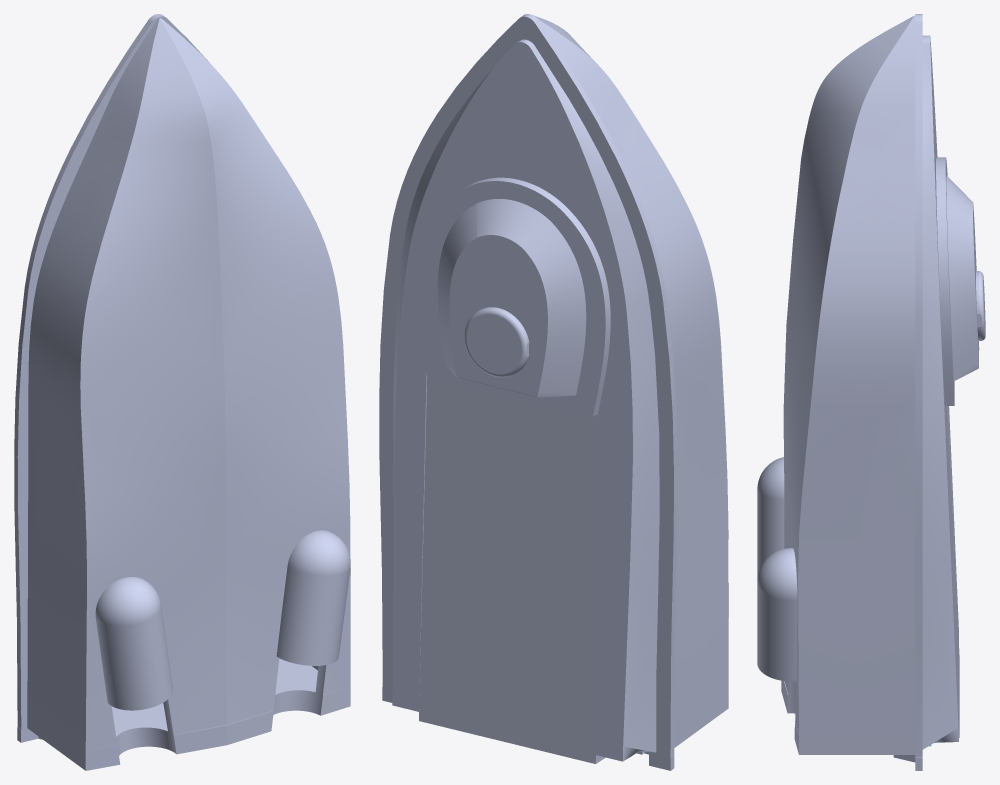
Rendered from Boat.FBX.
3 views of the same model, side by side, from view 1: azimuth 30°, elevation 25°; view 2: azimuth 150°, elevation 25°; view 3: azimuth 270°, elevation 25° (orthographic). The views are drawn at different scales.
Parts seen in each view (by area): view 1: 凸台-拉伸8, 镜向10, 旋转2, 镜向5; view 2: 镜向10, 凸台-拉伸3, 凸台-拉伸8, 切除-拉伸28, 切除-拉伸1; view 3: 凸台-拉伸8, 镜向10, 切除-拉伸28, 镜向5, 凸台-拉伸3, 旋转2, 切除-拉伸1.
Part boxes in pixels (<box>): 凸台-拉伸8: <box>27,18,350,770</box>; 镜向10: <box>14,14,209,742</box>; 旋转2: <box>95,577,161,626</box>; 镜向5: <box>287,530,350,576</box>; 镜向10: <box>379,14,677,770</box>; 凸台-拉伸3: <box>419,376,605,763</box>; 凸台-拉伸8: <box>533,15,728,754</box>; 切除-拉伸28: <box>418,177,610,416</box>; 切除-拉伸1: <box>464,307,529,377</box>; 凸台-拉伸8: <box>757,15,931,762</box>; 镜向10: <box>915,14,958,770</box>; 切除-拉伸28: <box>936,157,979,406</box>; 镜向5: <box>757,548,797,600</box>; 凸台-拉伸3: <box>945,406,959,737</box>; 旋转2: <box>757,457,784,499</box>; 切除-拉伸1: <box>976,271,985,340</box>.
Bounding box in the file's own units: 27.01 × 62.91 × 18.92.
